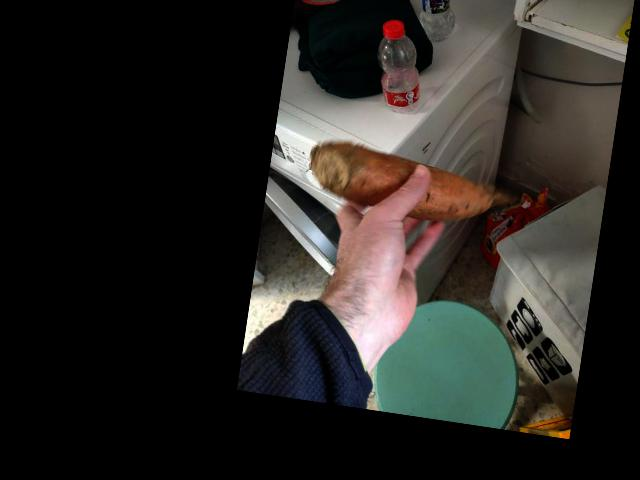sweet_potato: (332, 159, 494, 226)
